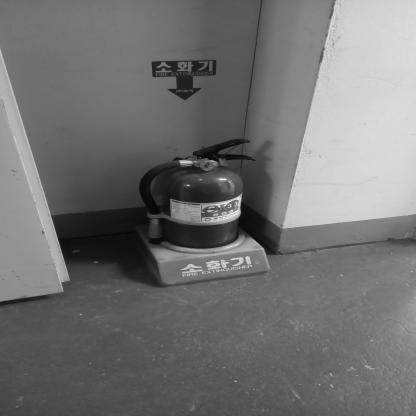FE: (139, 138, 273, 286)
